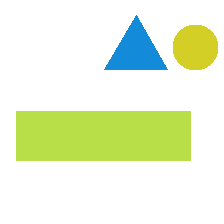circle: (173, 25, 217, 69)
rectangle: (16, 111, 190, 160)
triangle: (104, 15, 167, 69)
